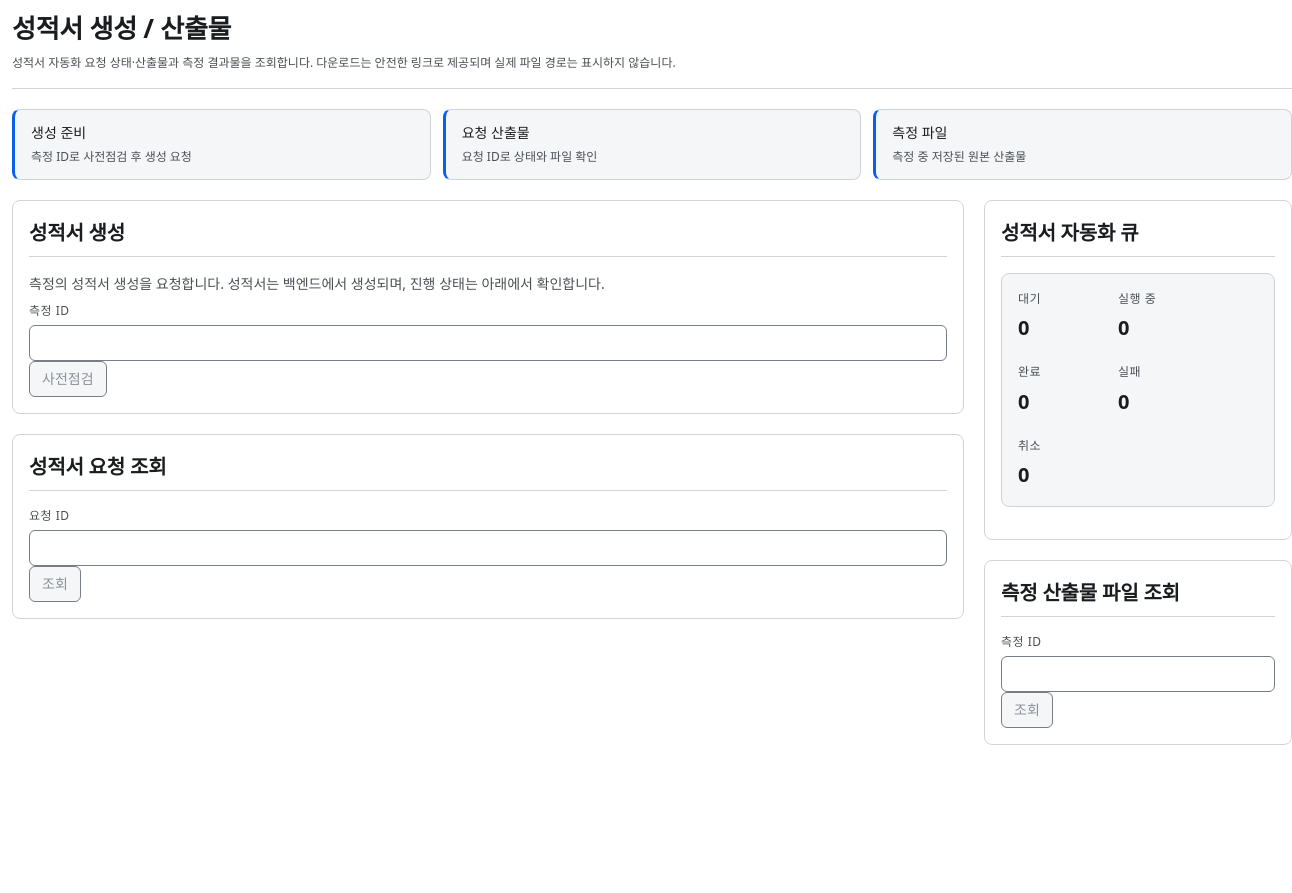
Test: ReportsRoute submit report (Phase 5) › shows an all-clear preflight when complete with no warnings
Type "7" into the field with test id "submit-session-input" at (488, 343), box [29,325,947,361]
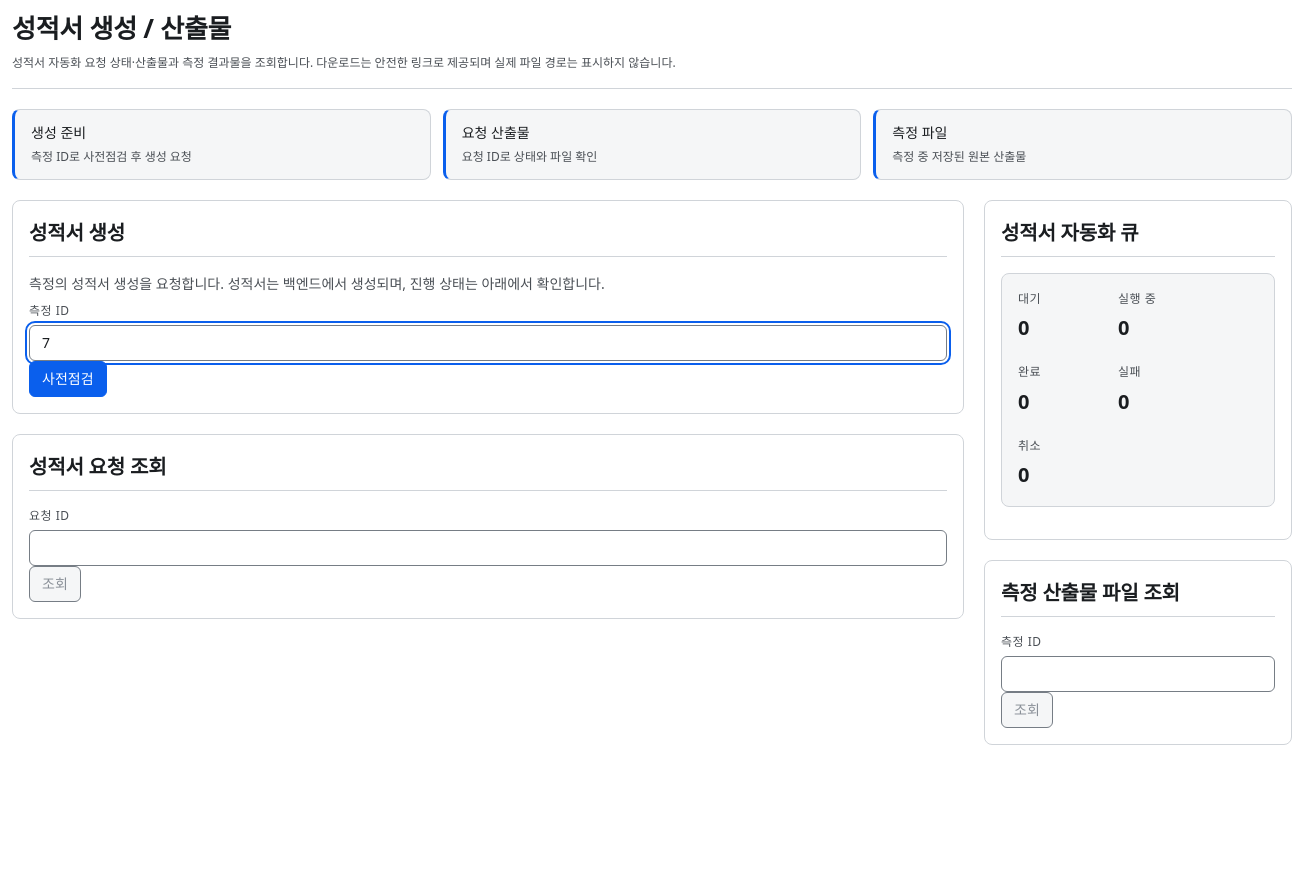
Click the button with test id "report-preflight-check" at (68, 379), box [29,361,106,397]
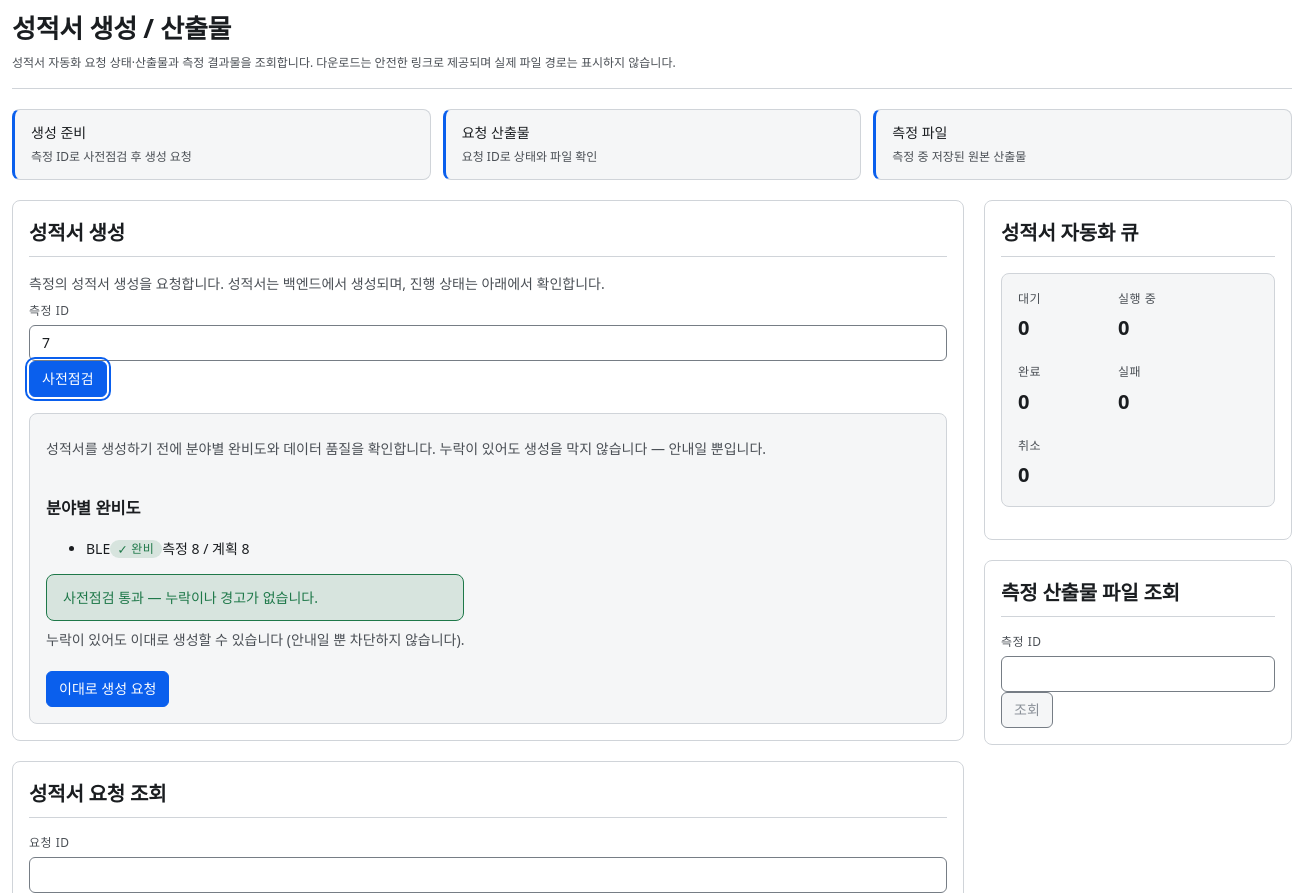
Expected: the message "사전점검 통과 — 누락이나 경고가 없습니다." is shown, [46,574,464,621]
